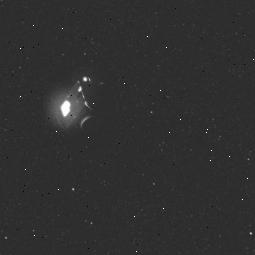proba_3_ocs: (40, 74, 136, 141)
